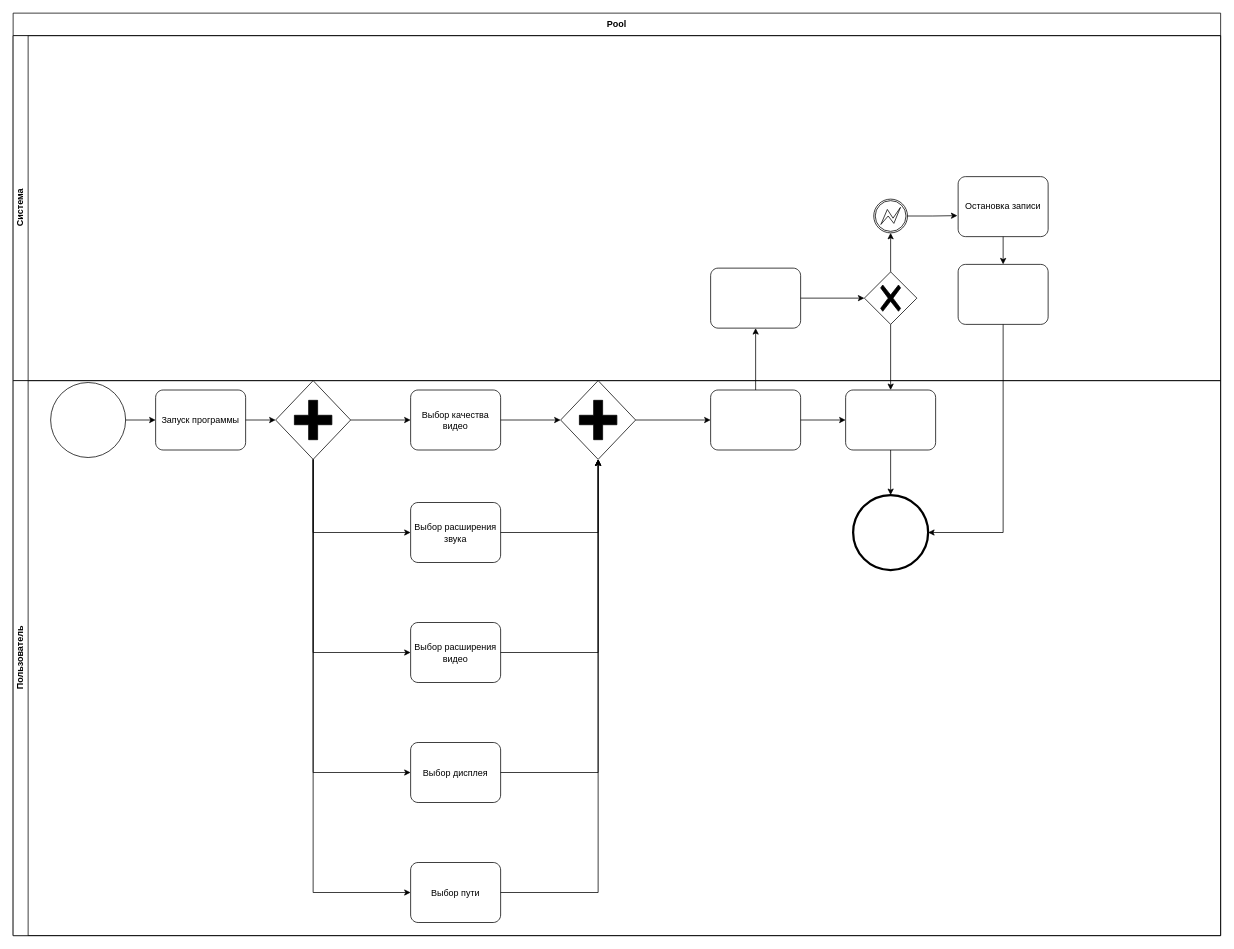
The diagram is 1234 pixels wide and 949 high, and some of its shapes have lost their labels. The centre of each missing label's shape, as x and y in pixels:
"Запись информации на диск" belongs at (755,297).
"Начать запись" belongs at (755,419).
"нехватка места" belongs at (890,215).
"Остановить запись" belongs at (890,419).
"Сохранение записи" belongs at (1002,294).
